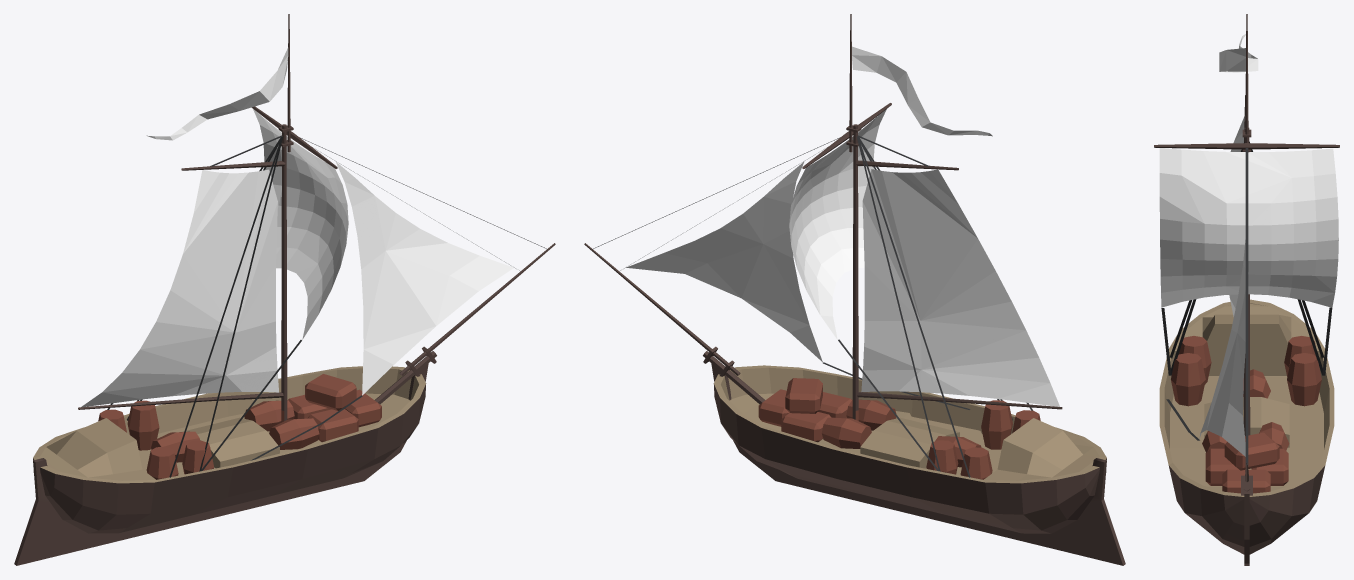
File: Cutter.fbx
3 renders of one model, left to right at view 1: azimuth 30°, elevation 25°; view 2: azimuth 150°, elevation 25°; view 3: azimuth 270°, elevation 25°, orthographic. The views are drawn at different scales.
Visible parts, largest first — view 1: model_0.025; view 2: model_0.025; view 3: model_0.025.
Boxes of the visible parts, bbox=[...] form: model_0.025: bbox=[14, 14, 555, 565]; model_0.025: bbox=[584, 14, 1125, 565]; model_0.025: bbox=[1154, 14, 1339, 565].
Bounding box in the file's own units: 26285 × 22502 × 7379.
